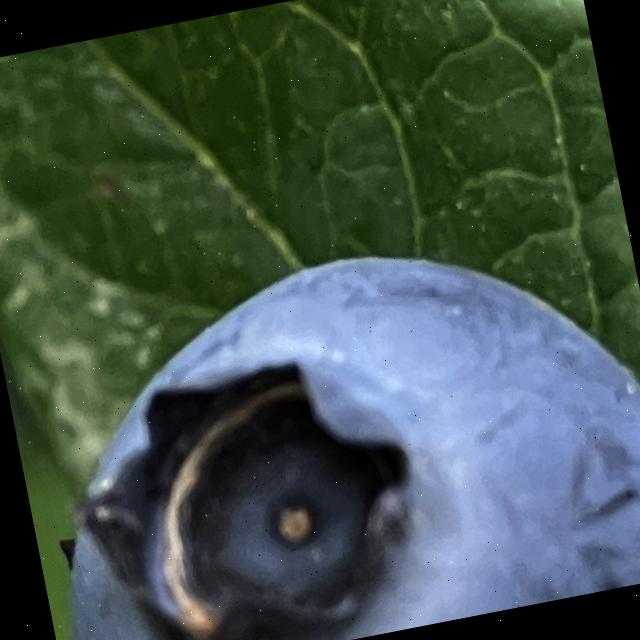Blueberries: (2, 196, 640, 640)
